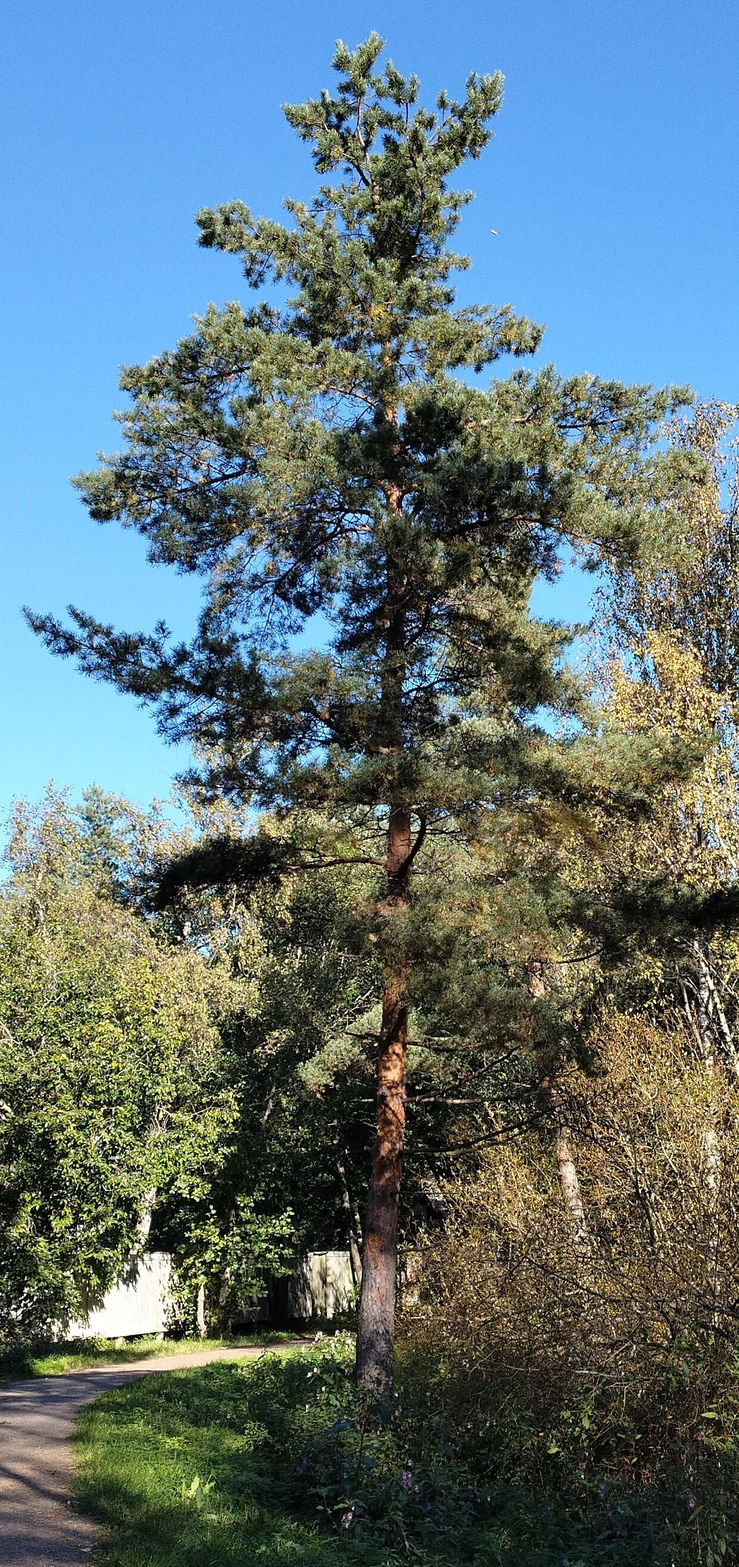Pine: (102, 0, 625, 1425)
